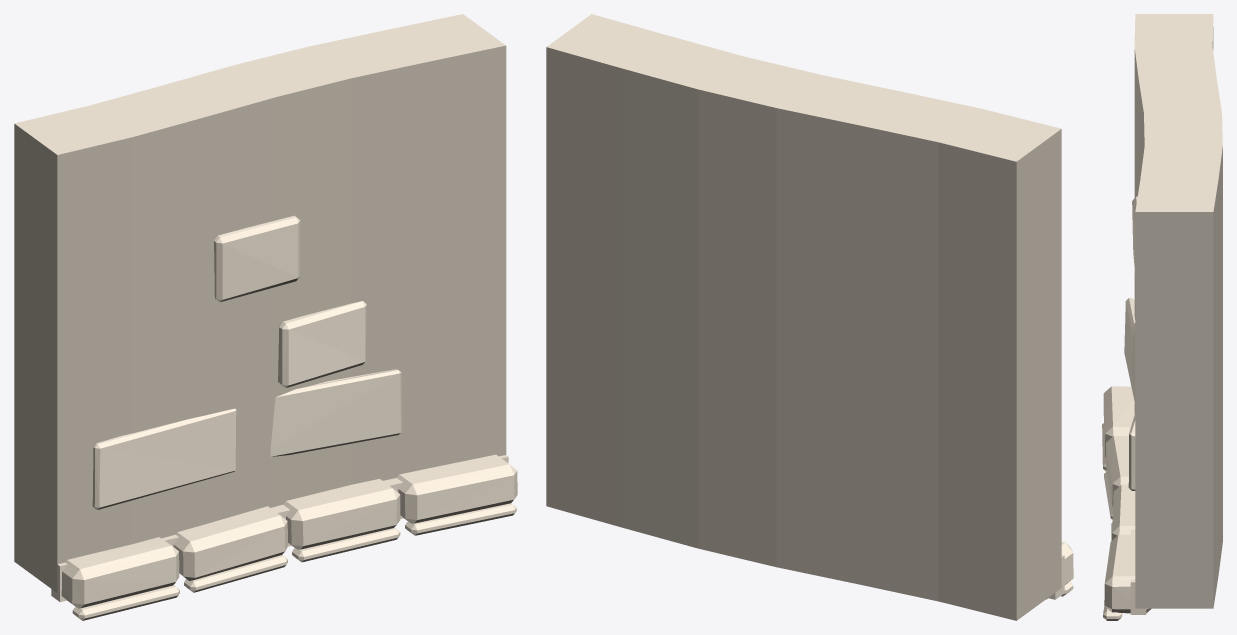
The model's file is SM_VK_Wall_StoneUp.fbx.
3 views of the same model, side by side, from view 1: azimuth 30°, elevation 25°; view 2: azimuth 150°, elevation 25°; view 3: azimuth 270°, elevation 25° (orthographic). The views are drawn at different scales.
Parts seen in each view (by area): view 1: SM_VK_Wall_StoneUp.001; view 2: SM_VK_Wall_StoneUp.001; view 3: SM_VK_Wall_StoneUp.001.
Boxes of the visible parts, <box> form: SM_VK_Wall_StoneUp.001: <box>14,14,517,620</box>; SM_VK_Wall_StoneUp.001: <box>546,14,1073,620</box>; SM_VK_Wall_StoneUp.001: <box>1102,14,1222,620</box>.
Bounding box in the file's own units: 3 × 2.91 × 0.7725.
